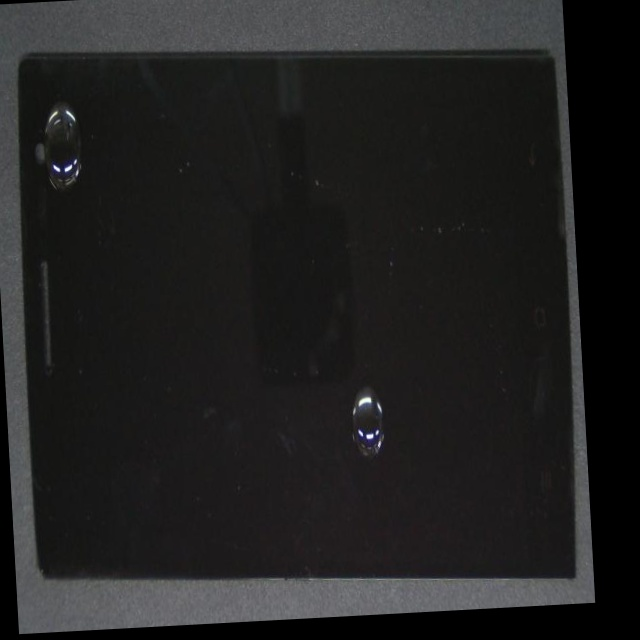oil: (184, 157, 544, 614), (41, 71, 120, 178)
